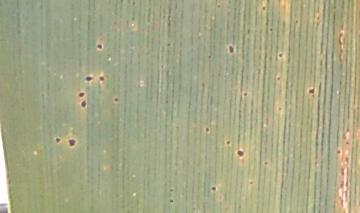tarspot: (84, 73, 95, 84), (236, 149, 247, 159), (227, 44, 237, 54), (277, 50, 286, 61), (271, 74, 283, 82), (79, 99, 88, 109), (95, 41, 105, 50), (307, 86, 315, 97), (53, 136, 65, 143), (68, 137, 76, 147), (112, 96, 121, 104), (78, 91, 86, 99), (247, 179, 255, 187), (204, 127, 213, 134), (223, 139, 232, 146), (99, 74, 105, 84), (210, 185, 217, 193), (263, 159, 270, 167), (336, 148, 343, 156), (165, 41, 172, 48), (169, 185, 175, 191), (243, 91, 248, 97), (169, 199, 175, 204)
